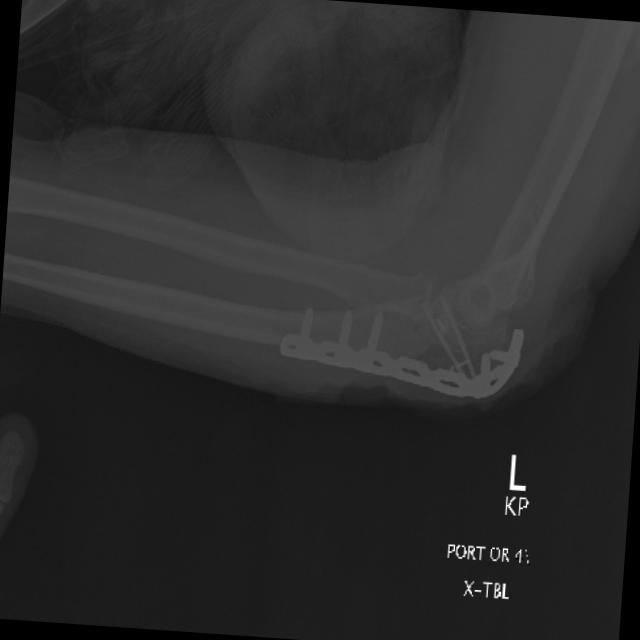elbow positive: (480, 233, 560, 334), (389, 250, 461, 338)
